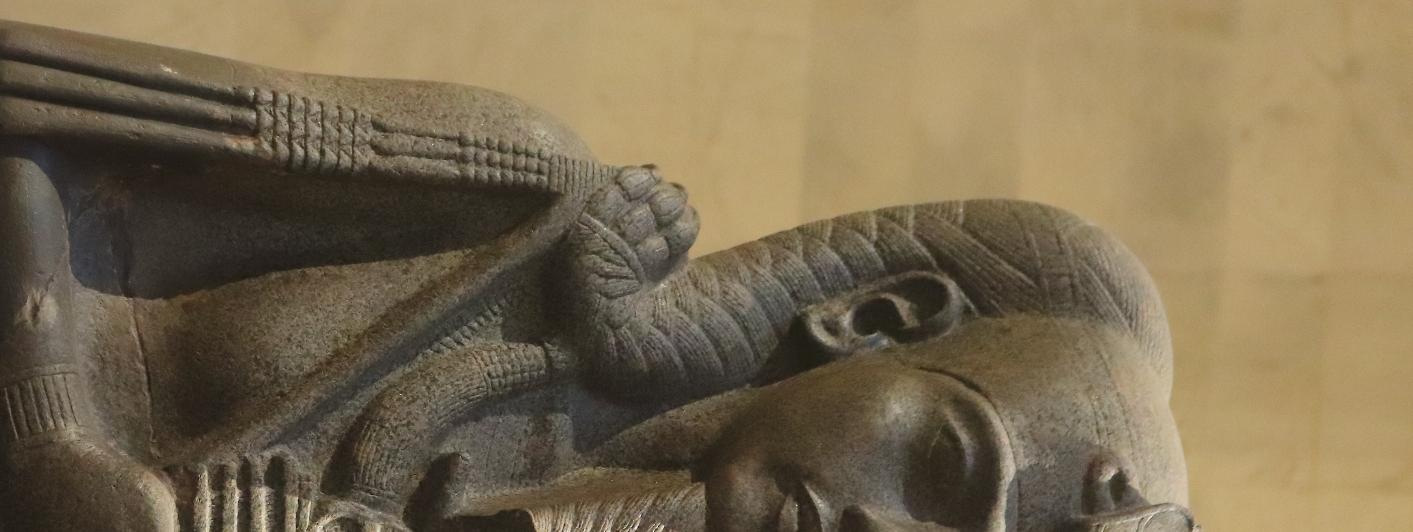Khonsu: (0, 151, 686, 532)
